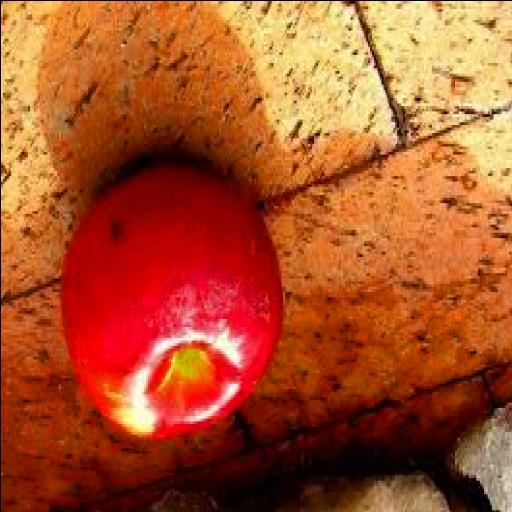apple: (62, 165, 282, 436)
